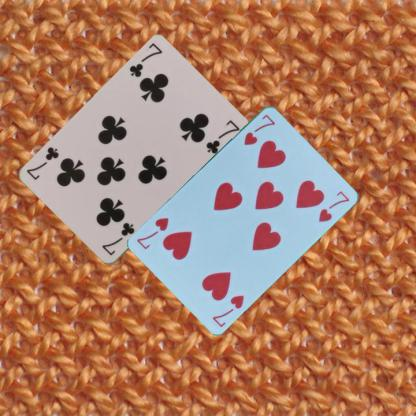7c: (126, 41, 164, 79), (100, 220, 136, 257)
7h: (210, 292, 245, 328), (241, 111, 276, 146)
